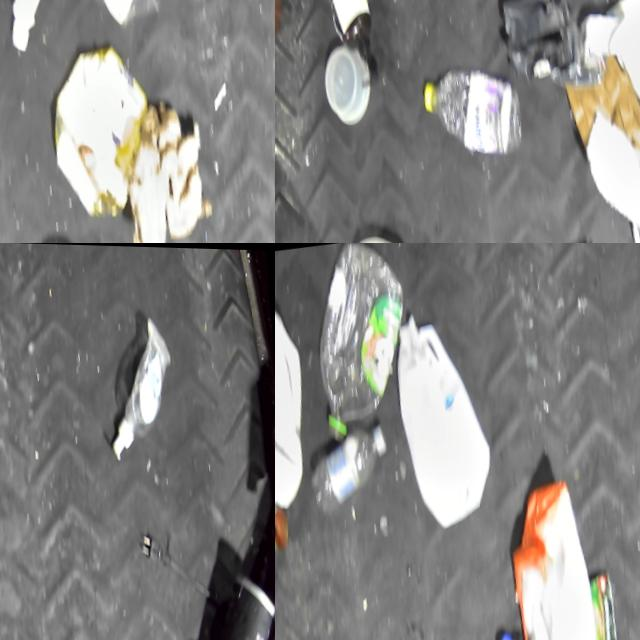can: (275, 487, 301, 557)
milk_jug: (379, 299, 516, 535), (275, 272, 333, 521)
plastic_bottle: (297, 243, 430, 446), (416, 52, 537, 168), (304, 420, 403, 521), (71, 0, 185, 33)
